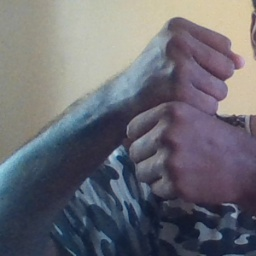G: (128, 15, 244, 204)
